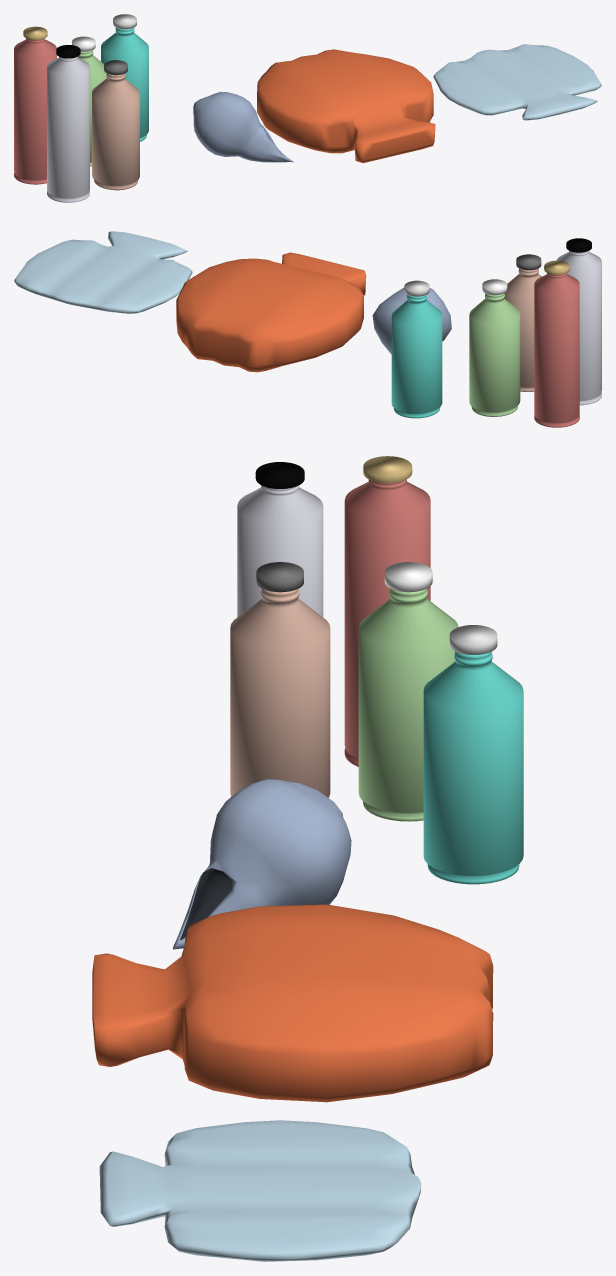
The model's file is shell.fbx.
3 renders of one model, top to bottom at view 1: azimuth 30°, elevation 25°; view 2: azimuth 150°, elevation 25°; view 3: azimuth 270°, elevation 25°, orthographic. The views are drawn at different scales.
Parts seen in each view (by area): view 1: Cube.001, Cube, Cylinder.001, Cylinder, Cylinder.004, Cube.002, Cylinder.003, Cylinder.002; view 2: Cube.001, Cube, Cylinder.004, Cylinder.003, Cylinder.002, Cylinder.001, Cylinder, Cube.002; view 3: Cube.001, Cube, Cylinder.003, Cylinder, Cylinder.002, Cube.002, Cylinder.004, Cylinder.001.
Part boxes in pixels (<box>): Cube.001: <box>257,49,435,163</box>; Cube: <box>433,44,601,120</box>; Cylinder.001: <box>47,45,89,202</box>; Cylinder: <box>92,60,139,190</box>; Cylinder.004: <box>14,26,56,184</box>; Cube.002: <box>193,91,293,162</box>; Cylinder.003: <box>101,14,148,141</box>; Cylinder.002: <box>72,36,106,166</box>; Cube.001: <box>176,252,366,372</box>; Cube: <box>14,231,192,313</box>; Cylinder.004: <box>534,260,579,427</box>; Cylinder.003: <box>391,280,442,418</box>; Cylinder.002: <box>469,279,520,416</box>; Cylinder.001: <box>556,238,601,405</box>; Cylinder: <box>504,254,541,391</box>; Cube.002: <box>372,287,451,354</box>; Cube.001: <box>92,904,493,1102</box>; Cube: <box>99,1120,421,1261</box>; Cylinder.003: <box>423,625,523,884</box>; Cylinder: <box>230,562,330,797</box>; Cylinder.002: <box>358,562,458,821</box>; Cube.002: <box>173,779,351,949</box>; Cylinder.004: <box>344,456,430,766</box>; Cylinder.001: <box>237,462,323,617</box>.
Bounding box in the file's own units: 534 × 148 × 184.
